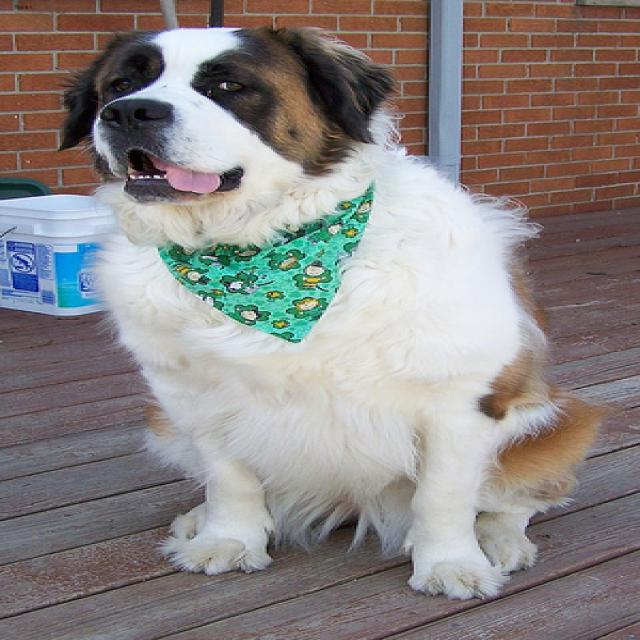dog-saint_bernard: (38, 22, 629, 611)
